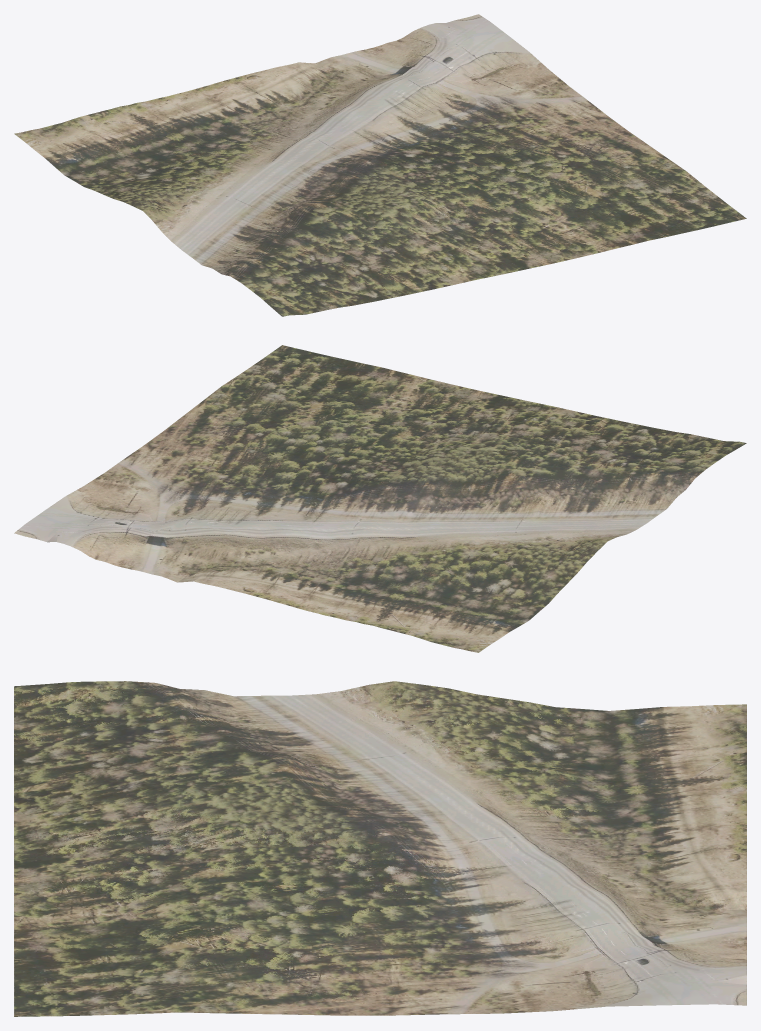
The model's file is CM_Terrain_24492506_6814264.fbx.
3 views of the same model, one above another, from view 1: azimuth 30°, elevation 25°; view 2: azimuth 150°, elevation 25°; view 3: azimuth 270°, elevation 25° (orthographic). The views are drawn at different scales.
Visible parts, largest first — view 1: CM_Terrain_24492506_6814264_LOD0; view 2: CM_Terrain_24492506_6814264_LOD0; view 3: CM_Terrain_24492506_6814264_LOD0.
Boxes of the visible parts, x1,y1,x2,y2 form: CM_Terrain_24492506_6814264_LOD0: [14, 14, 746, 316]; CM_Terrain_24492506_6814264_LOD0: [14, 345, 746, 652]; CM_Terrain_24492506_6814264_LOD0: [14, 681, 746, 1016].
Size of what is drawn, in the model's own units: 205 by 10.32 by 205.
